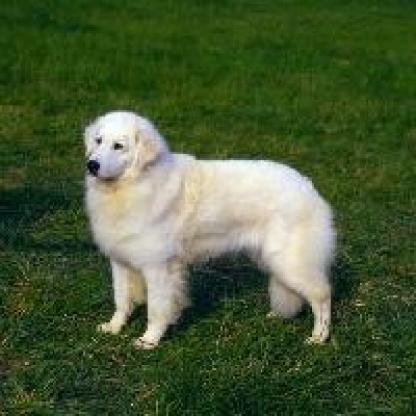kuvasz: (77, 102, 333, 347)
